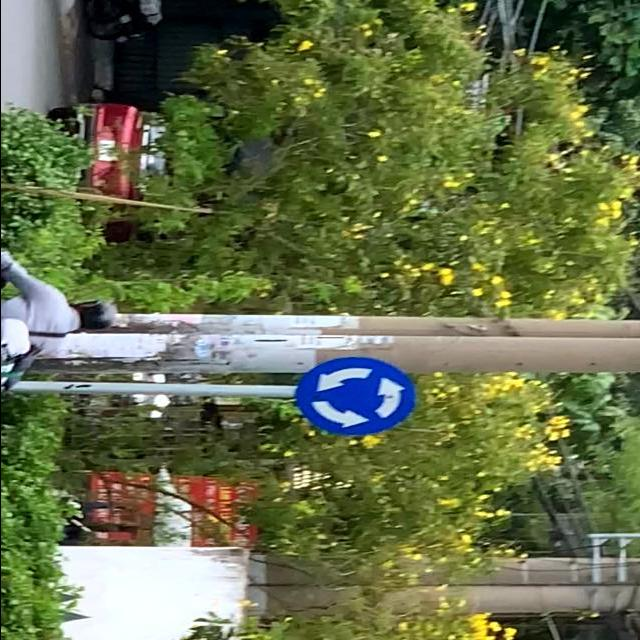R-303: (296, 358, 418, 434)
